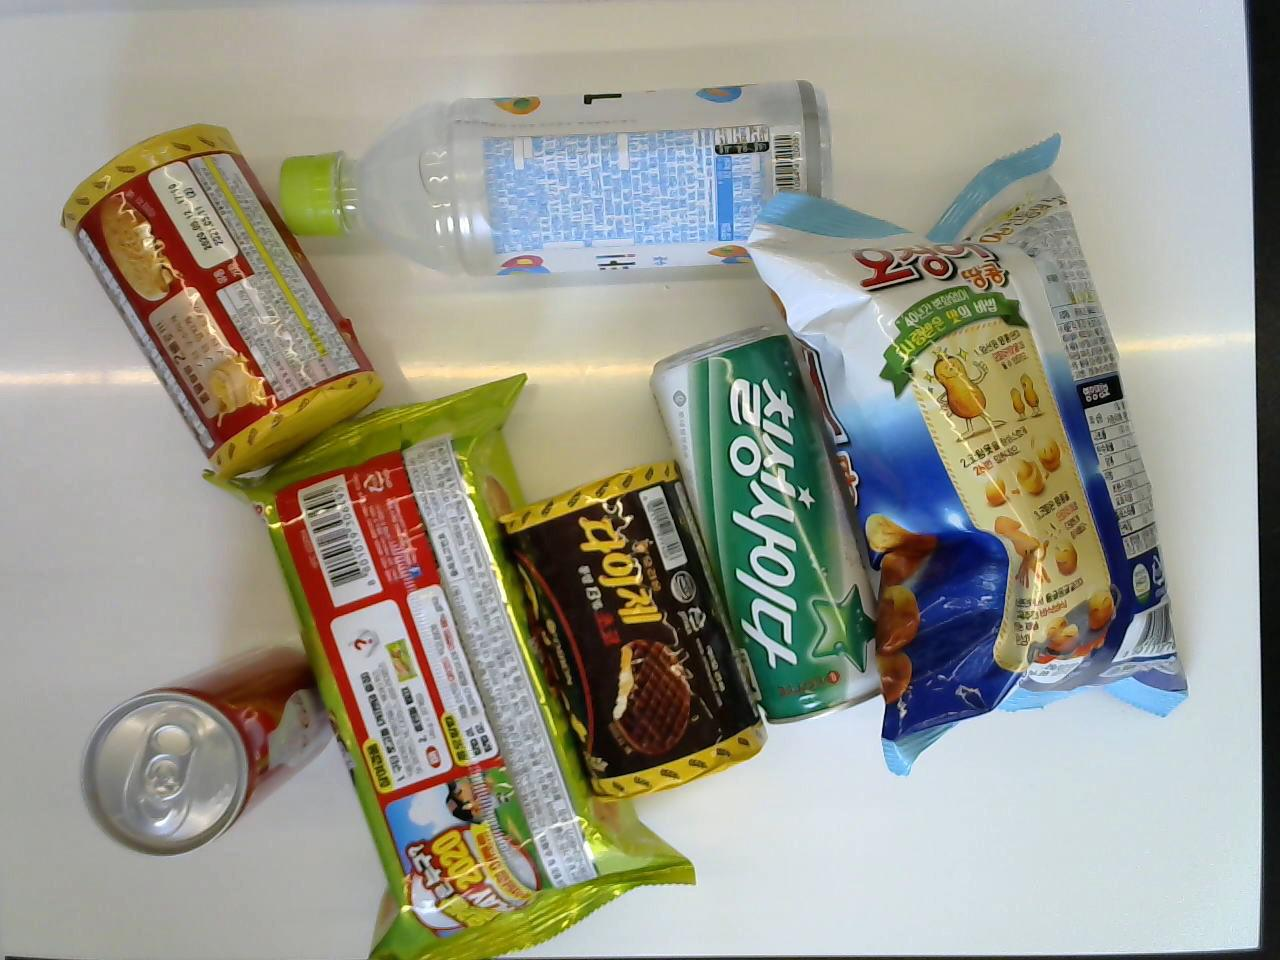cidar: (652, 323, 911, 727)
coke: (84, 634, 337, 854)
diget_choco: (490, 464, 769, 808)
diget_ori: (57, 118, 379, 484)
homerunball: (219, 377, 696, 952)
squid_peanut: (746, 133, 1191, 781)
toreta: (274, 75, 838, 286)
